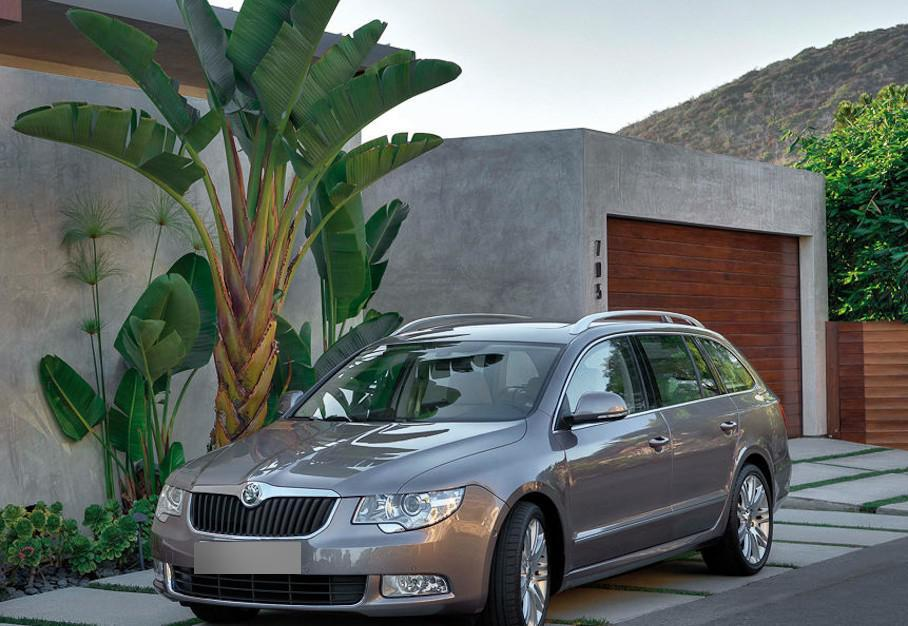Wagon: (150, 310, 791, 626)
